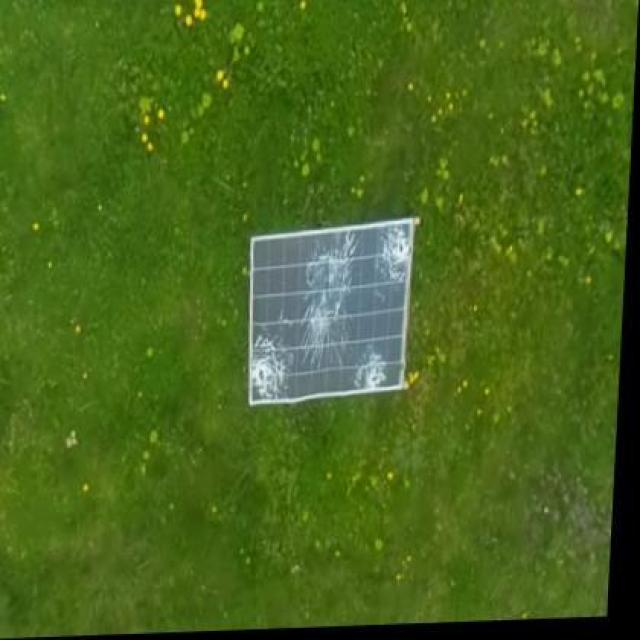cracked: (248, 216, 416, 407)
